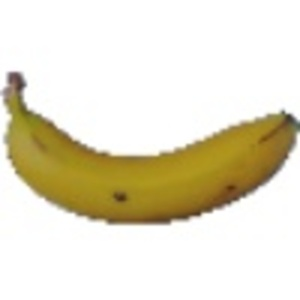banana: (2, 63, 295, 229)
